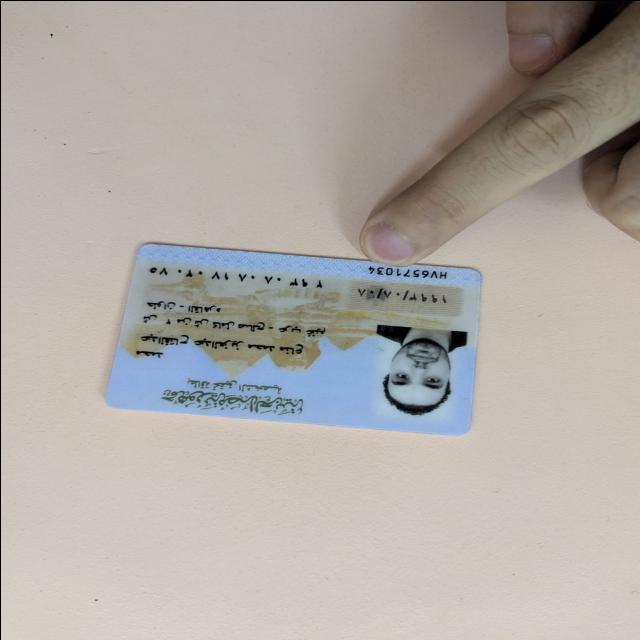id_card: (90, 229, 492, 439)
